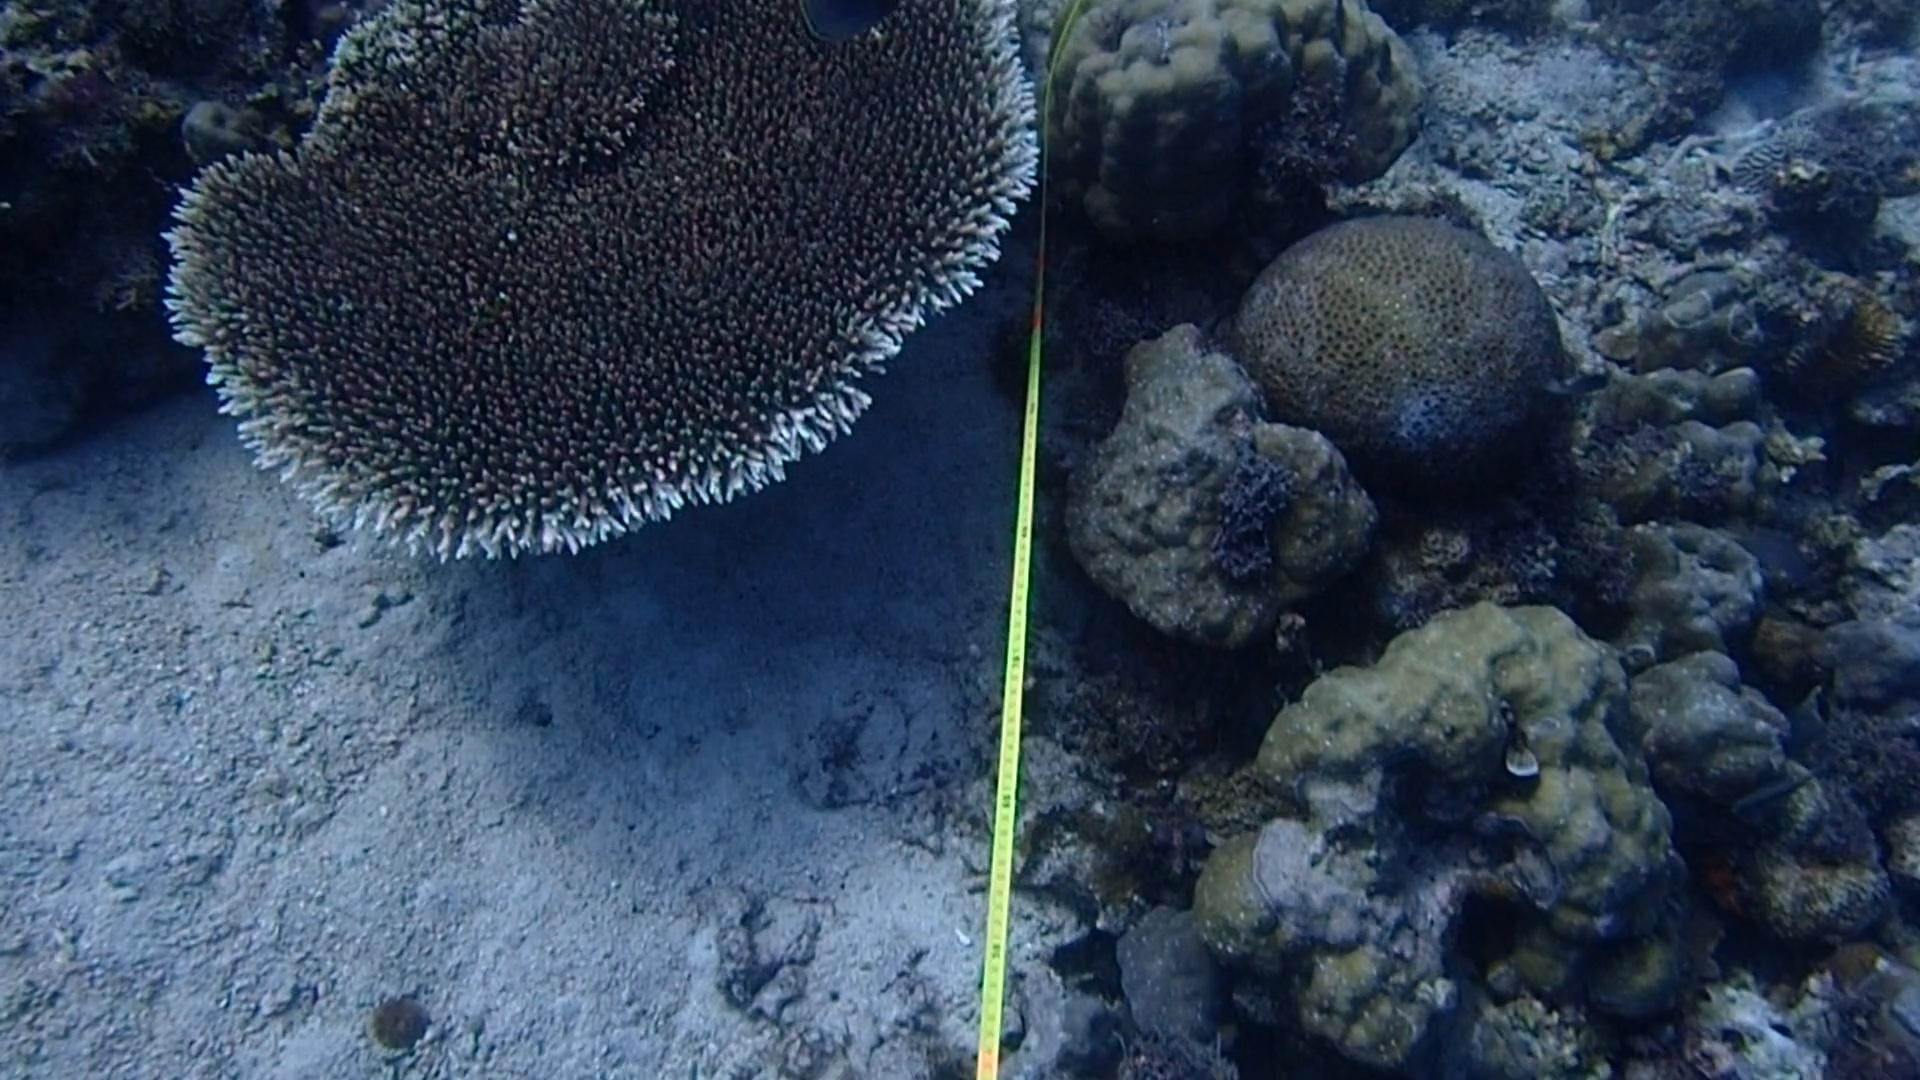Light Fish: (1721, 736, 1840, 837), (1519, 352, 1621, 413)
